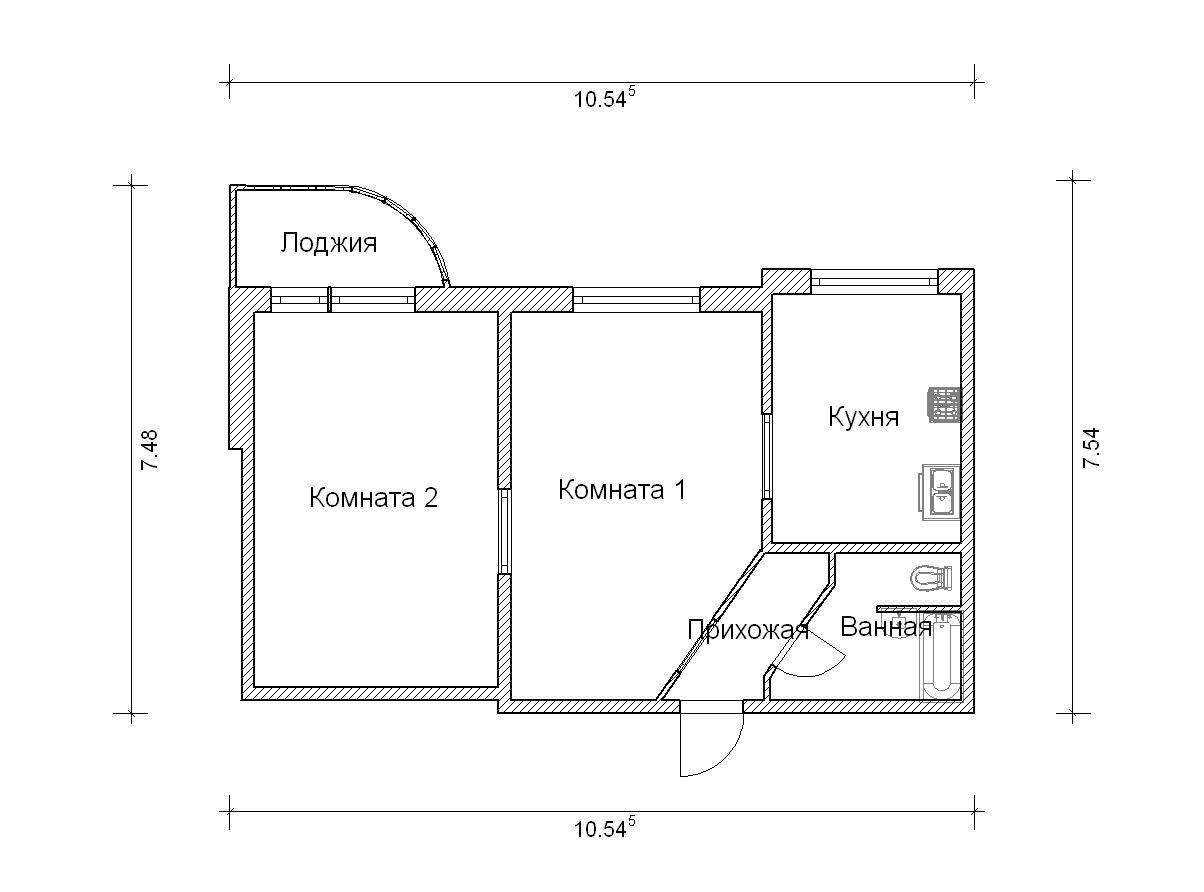balcony: (236, 190, 445, 286)
bathroom: (769, 552, 964, 701)
bedroom: (254, 310, 497, 689)
hallway: (664, 552, 829, 701)
kitchen: (771, 291, 964, 545)
living_room: (511, 314, 764, 701)
